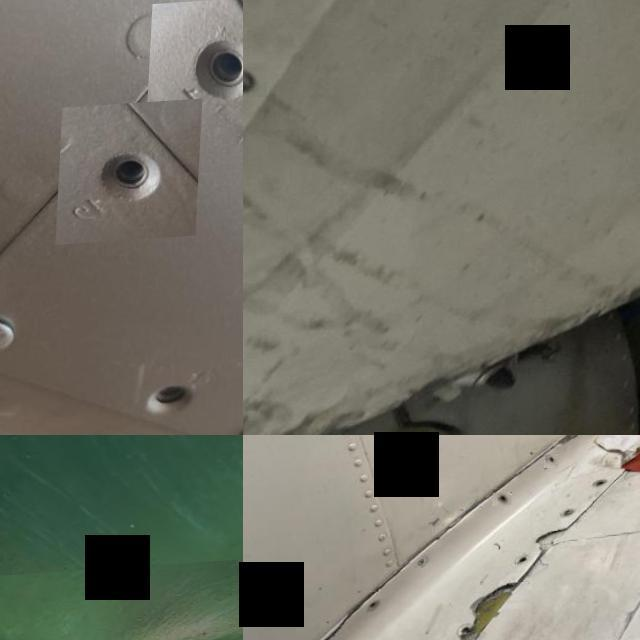Crack: (455, 587, 529, 640), (311, 612, 371, 640), (536, 534, 578, 562), (559, 435, 599, 459)
Dent: (0, 564, 243, 640)
Missing_Fastener: (60, 104, 206, 248), (148, 0, 243, 154), (116, 340, 239, 435), (243, 64, 268, 101), (496, 498, 516, 512), (519, 558, 537, 572), (372, 605, 387, 619), (596, 483, 613, 495), (548, 460, 562, 474)
